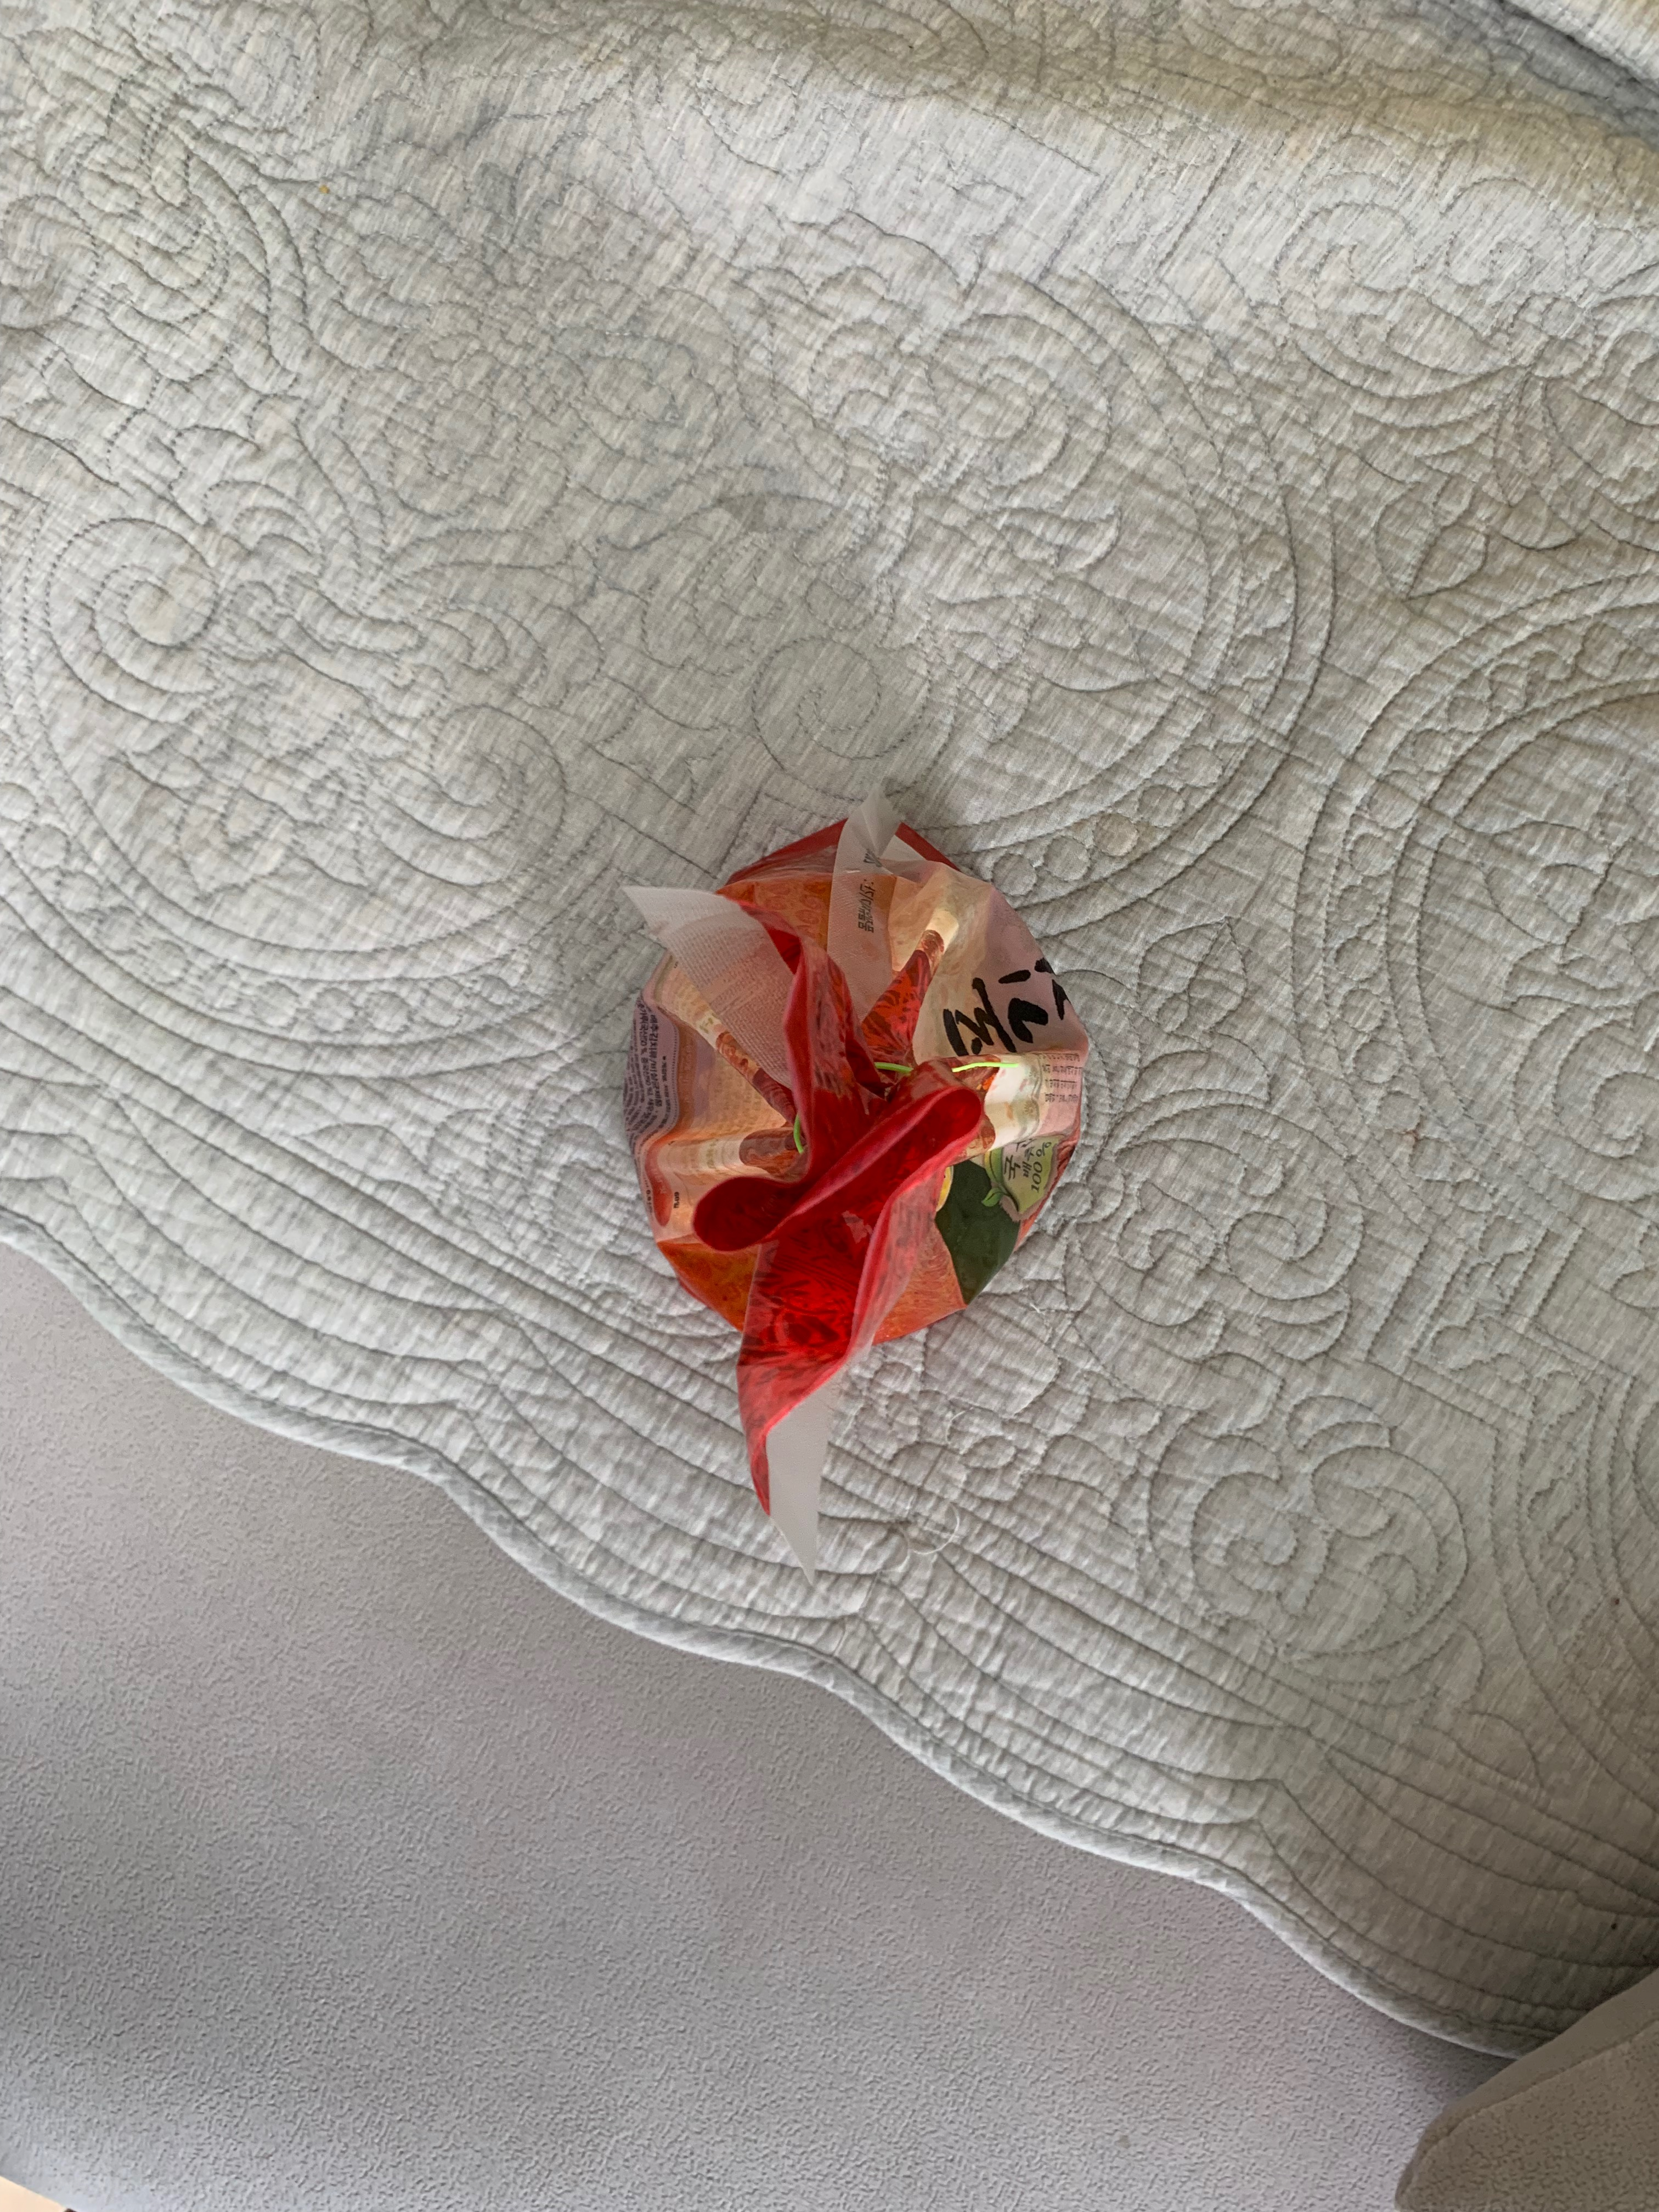kimchi: (633, 826, 1091, 1420)
